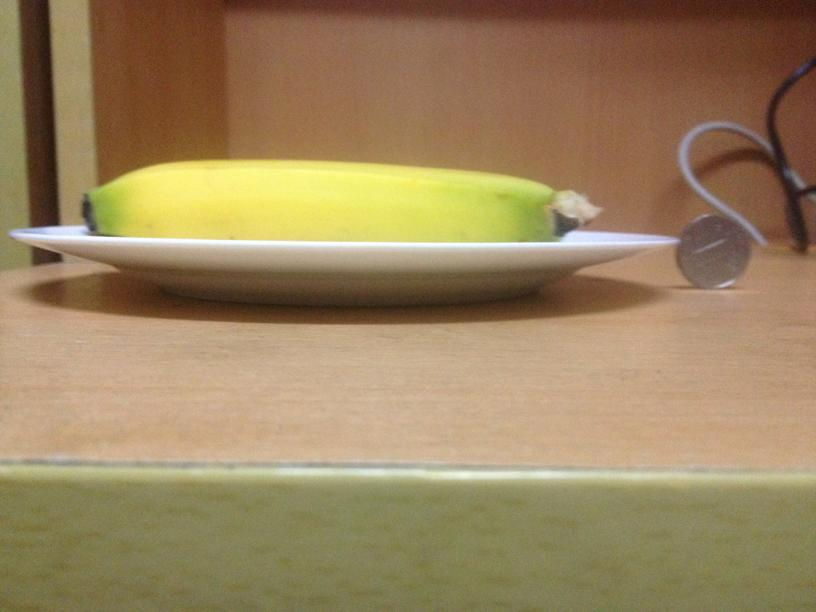banana: (81, 155, 573, 240)
coin: (672, 212, 750, 289)
